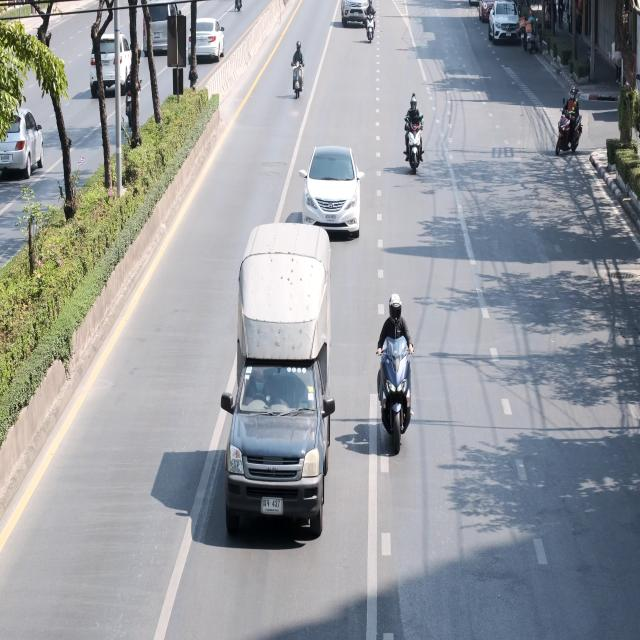cars: (213, 210, 337, 558), (294, 131, 370, 259), (0, 85, 48, 221), (80, 22, 144, 112), (189, 7, 225, 85), (141, 0, 183, 57), (338, 0, 374, 30)
motorcycle: (372, 288, 426, 468), (279, 30, 322, 120), (553, 81, 589, 174), (399, 87, 433, 179), (124, 58, 143, 132), (526, 12, 546, 64), (364, 2, 382, 53), (518, 10, 533, 54)
